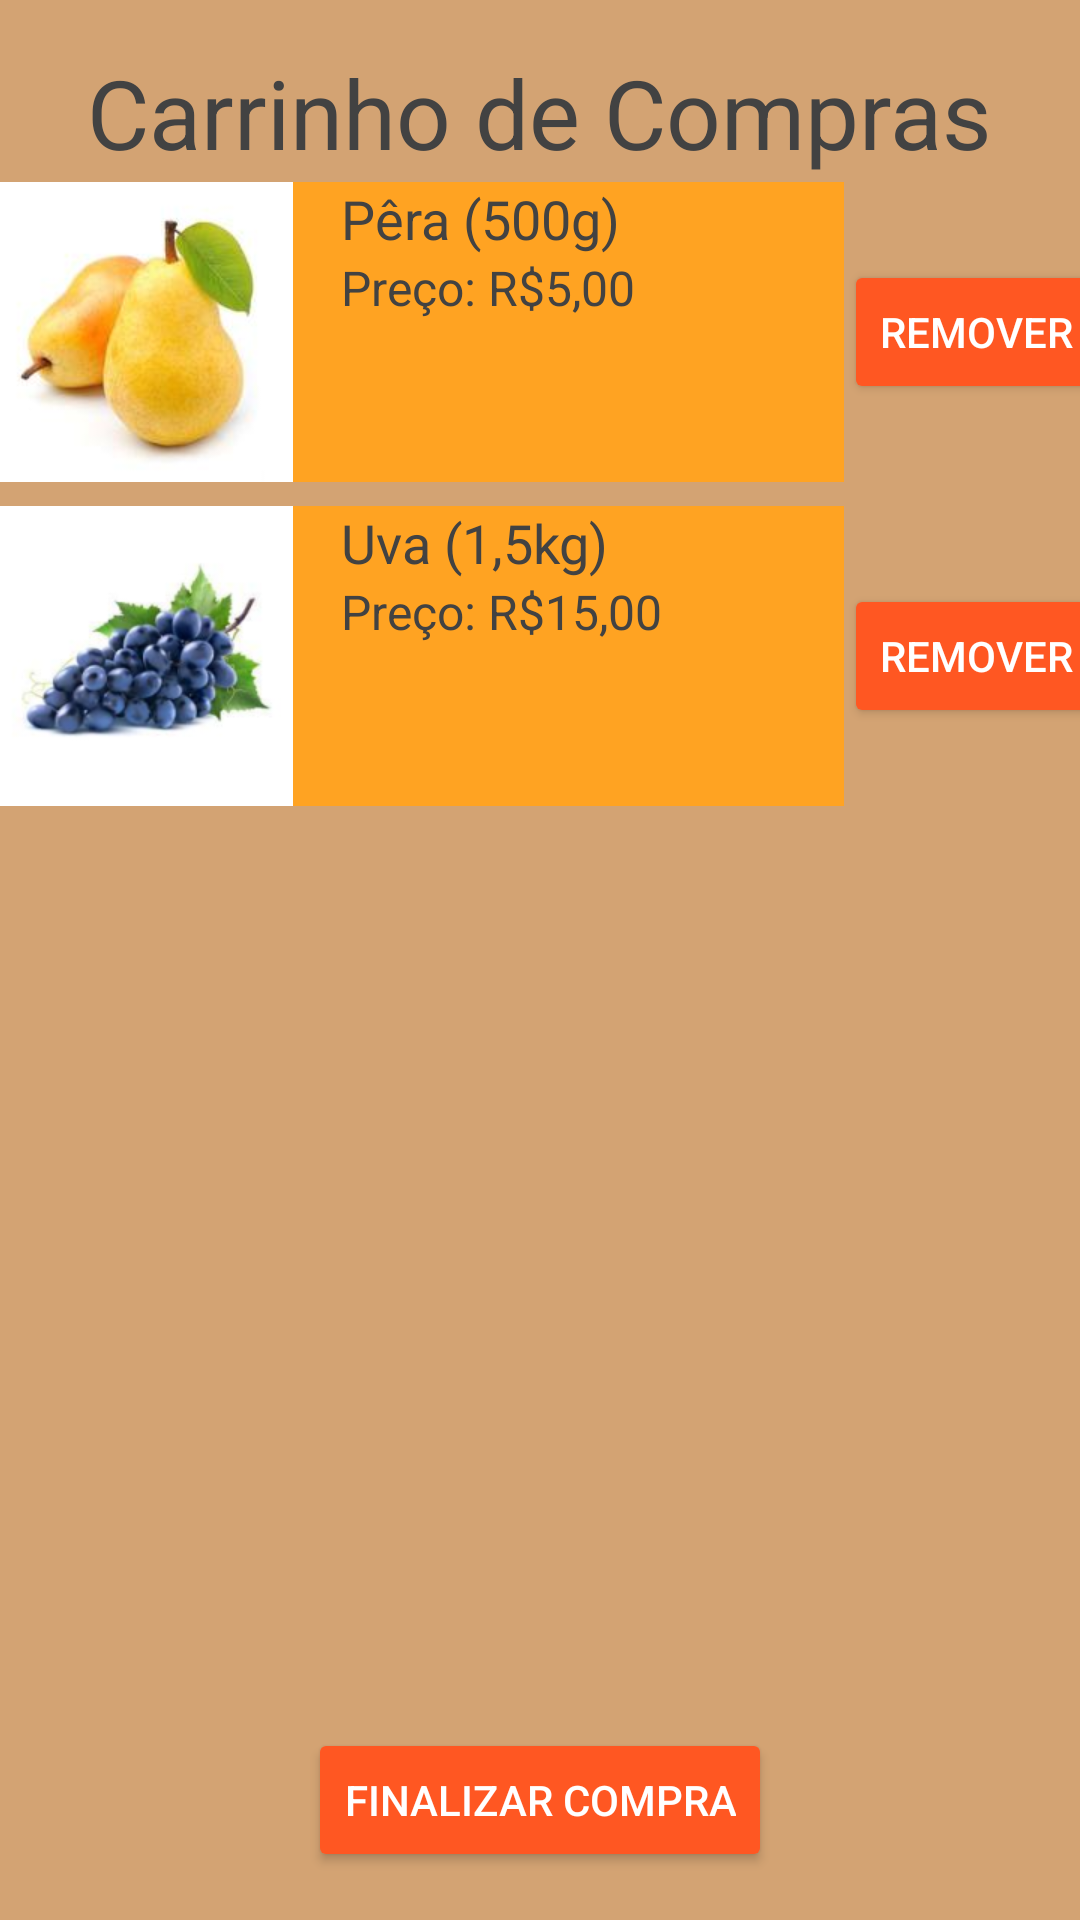

Named icons in this screenshot (1080px x 1920px) and their bounding boxes, rect(x1, y1, x2, y2):
fruta: rect(0, 182, 293, 482), rect(0, 506, 293, 806)
